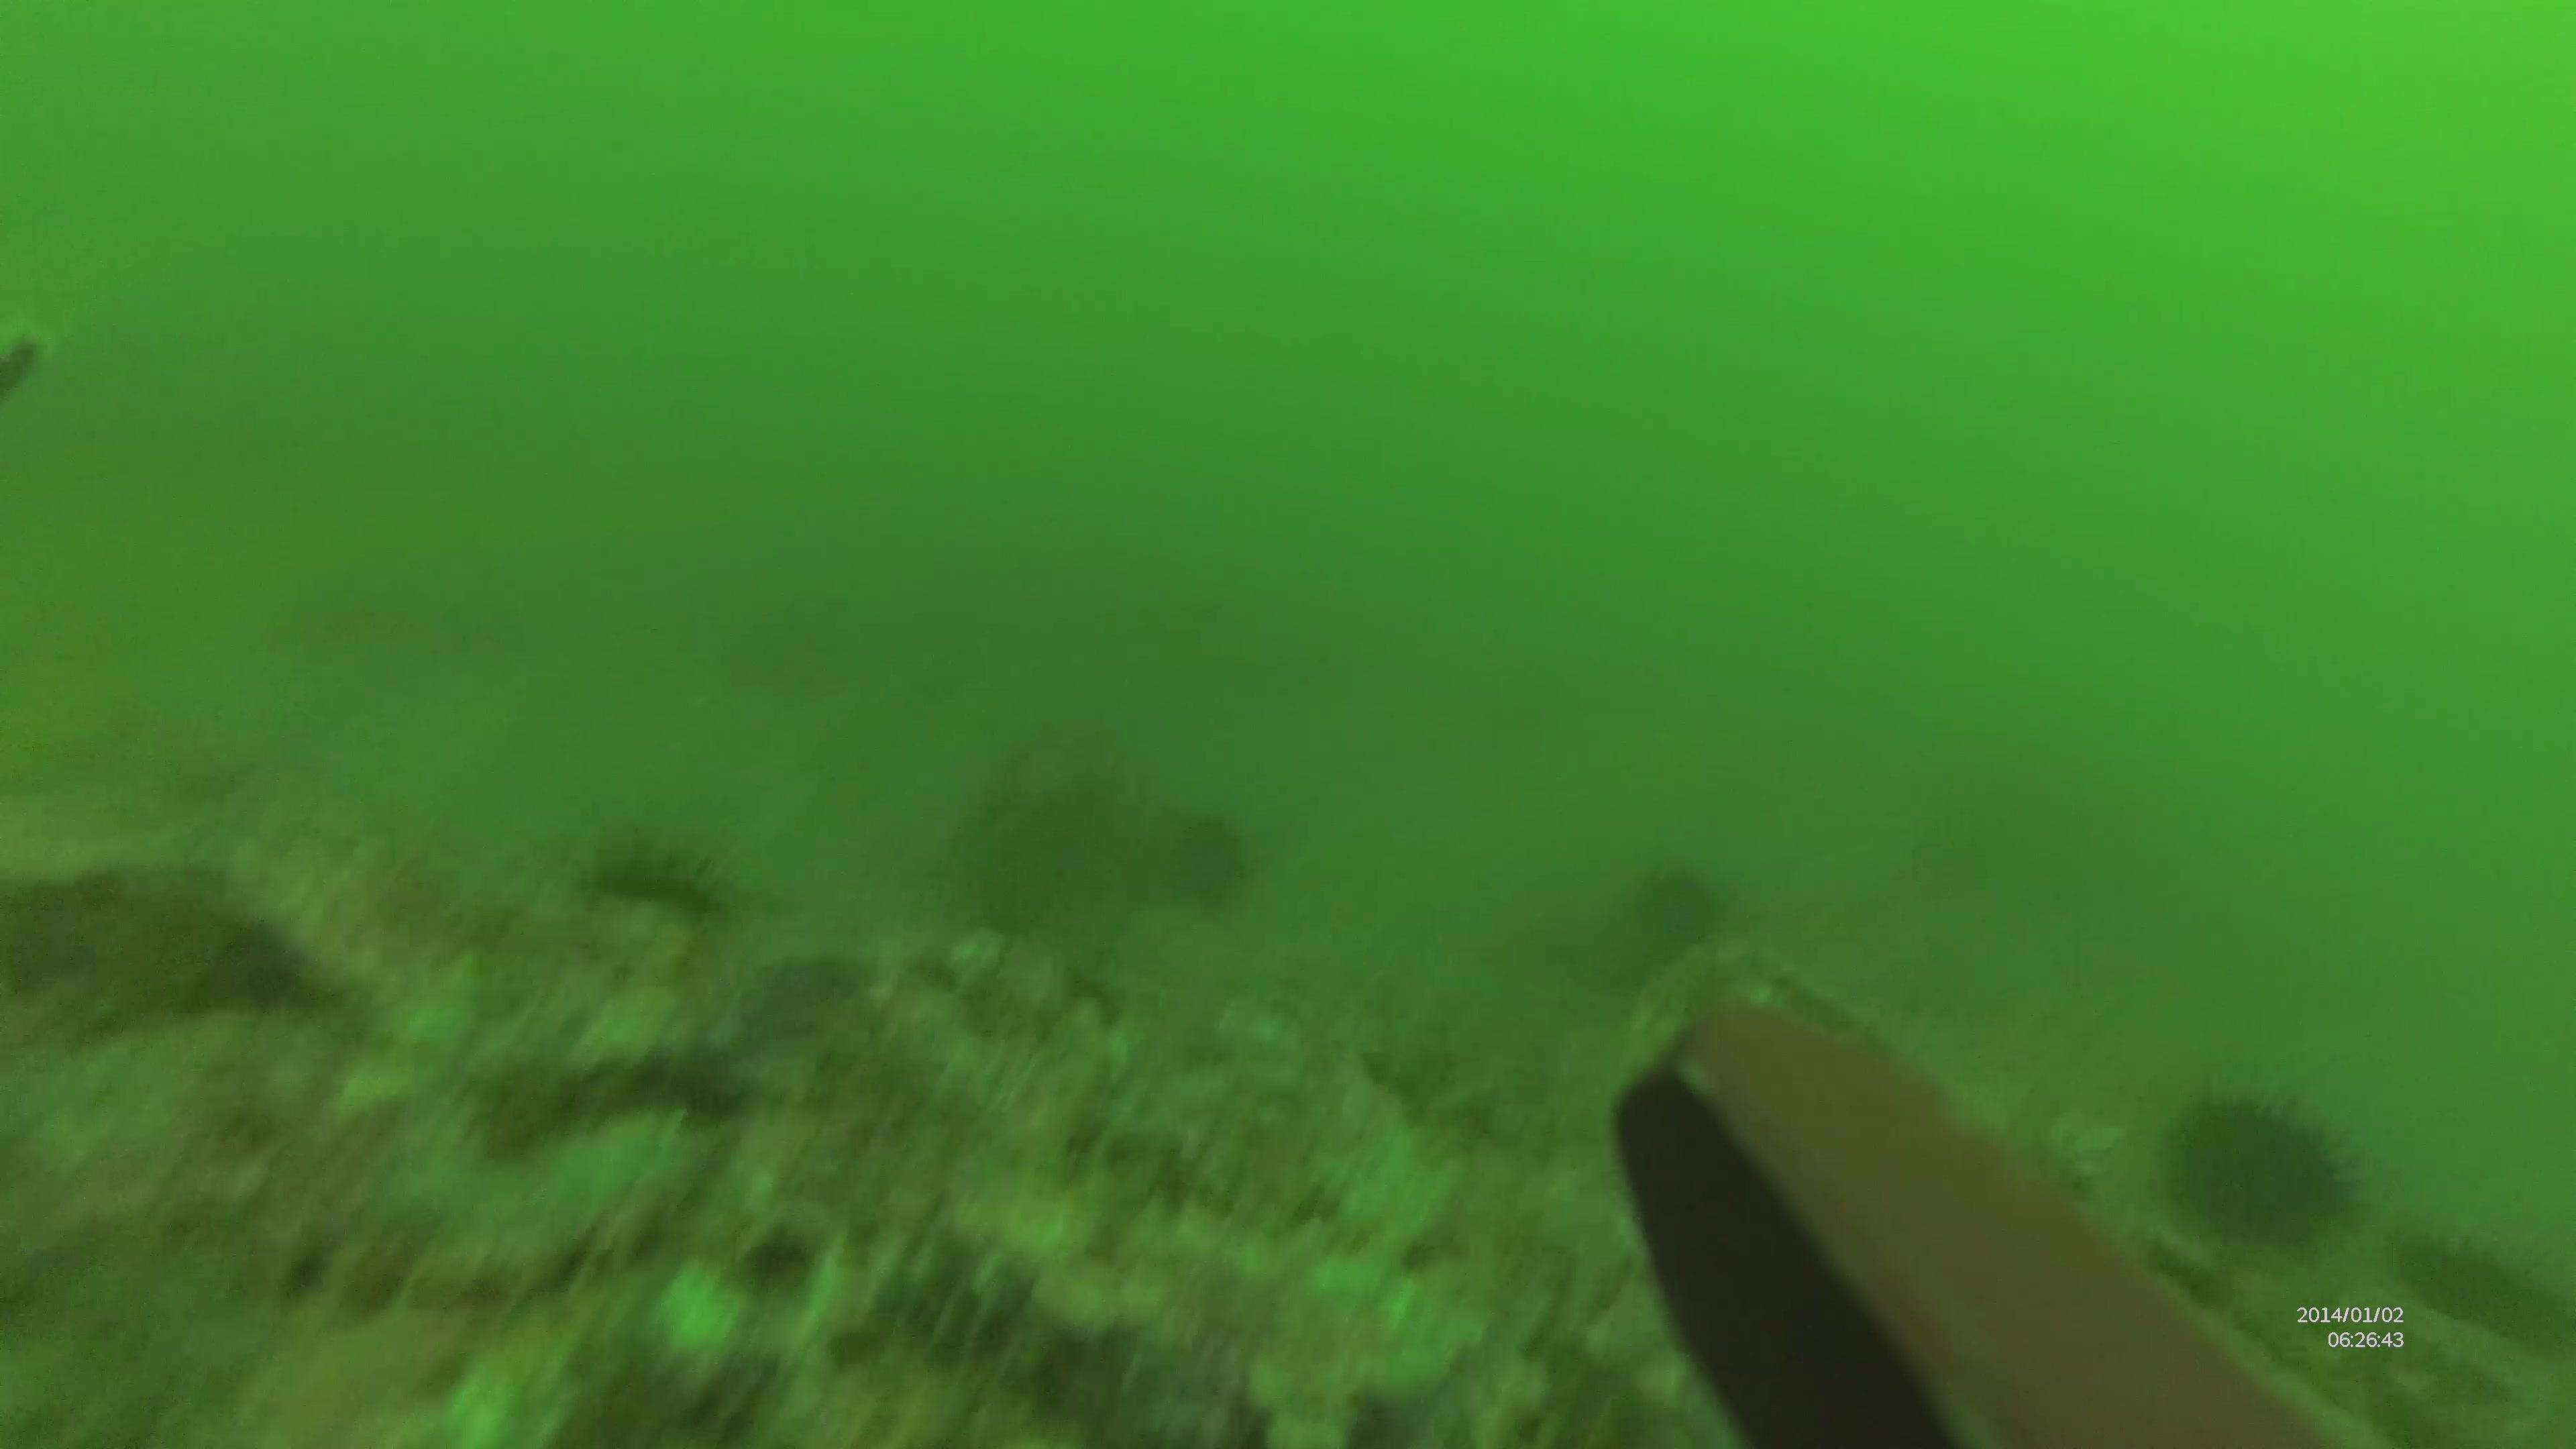echinus: (2162, 1081, 2380, 1260)
